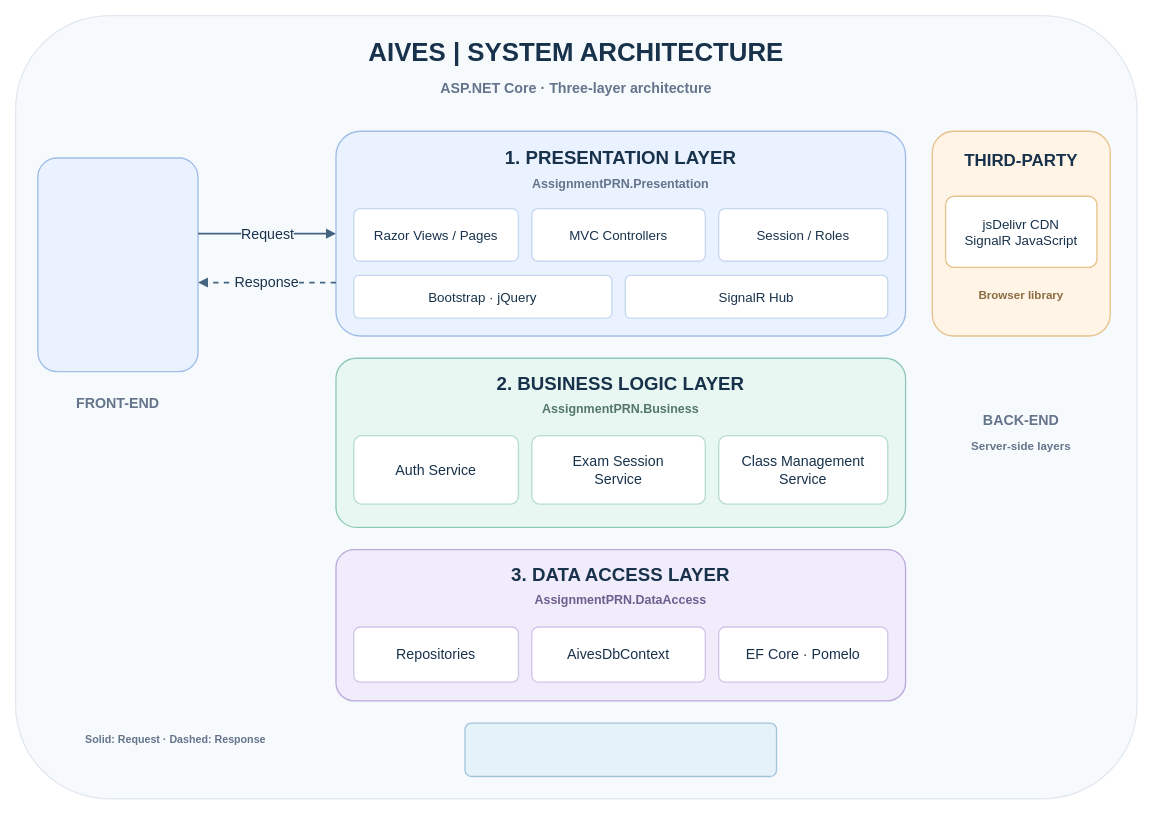
This 1153x815 diagram has some shape labels left out. Here are the shapes that lost their labels. From the top down, the box of each, then its label:
(37, 157, 198, 372): USERS Admin Lecturer · Student Web Browser SignalR Client
(464, 722, 777, 777): DATABASE · MySQL 8.4
